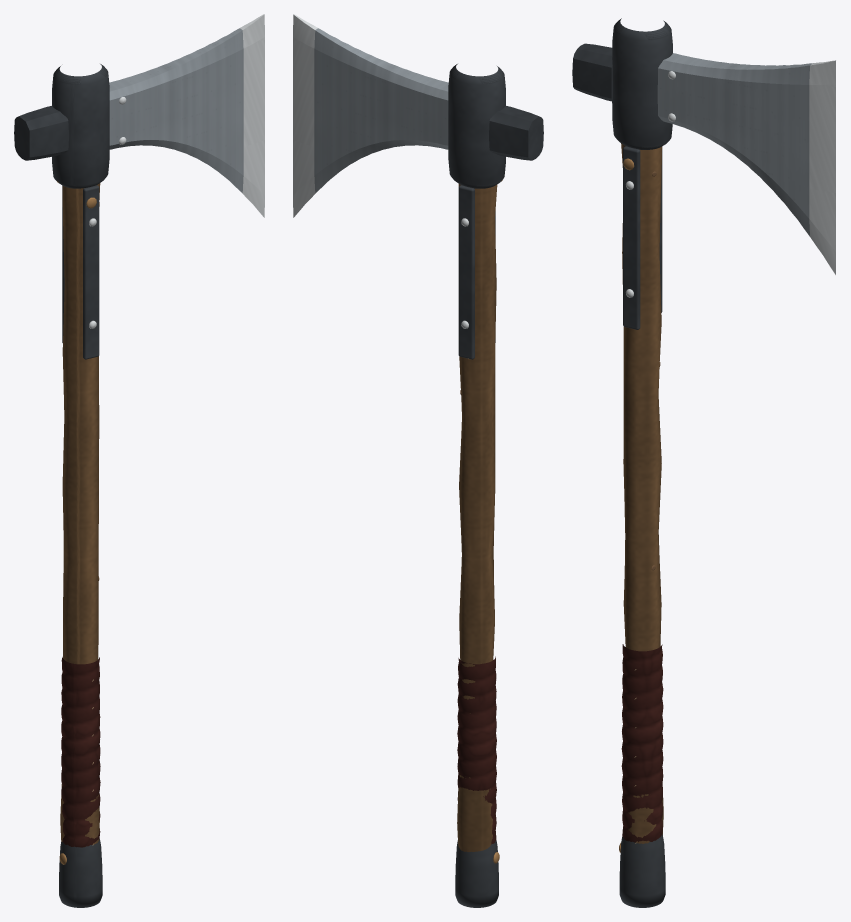
Rendered from war-axe.glb.
3 renders of one model, left to right at view 1: azimuth 30°, elevation 25°; view 2: azimuth 150°, elevation 25°; view 3: azimuth 330°, elevation 25°, orthographic. The views are drawn at different scales.
Parts seen in each view (by area): view 1: wood / oiled hardwood, darksteel / oil-blackened fittings, steel / forged blade steel, leather / oiled leather wrap, edge / honed bright bevel; view 2: wood / oiled hardwood, darksteel / oil-blackened fittings, steel / forged blade steel, leather / oiled leather wrap, edge / honed bright bevel; view 3: wood / oiled hardwood, steel / forged blade steel, darksteel / oil-blackened fittings, leather / oiled leather wrap, edge / honed bright bevel.
Boxes of the visible parts, x1,y1,x2,y2 form: wood / oiled hardwood: (60, 183, 100, 844); darksteel / oil-blackened fittings: (14, 64, 109, 907); steel / forged blade steel: (109, 28, 243, 192); leather / oiled leather wrap: (61, 657, 100, 847); edge / honed bright bevel: (89, 14, 264, 328); wood / oiled hardwood: (457, 184, 497, 851); darksteel / oil-blackened fittings: (448, 64, 543, 907); steel / forged blade steel: (314, 28, 448, 192); leather / oiled leather wrap: (457, 656, 496, 844); edge / honed bright bevel: (293, 14, 468, 328); wood / oiled hardwood: (621, 143, 663, 843); steel / forged blade steel: (657, 53, 812, 236); darksteel / oil-blackened fittings: (572, 18, 672, 907); leather / oiled leather wrap: (621, 644, 663, 842); edge / honed bright bevel: (626, 60, 835, 297).
Size of the model in its own units: 0.2529 by 0.838 by 0.048.
8 materials, 5 textured.
